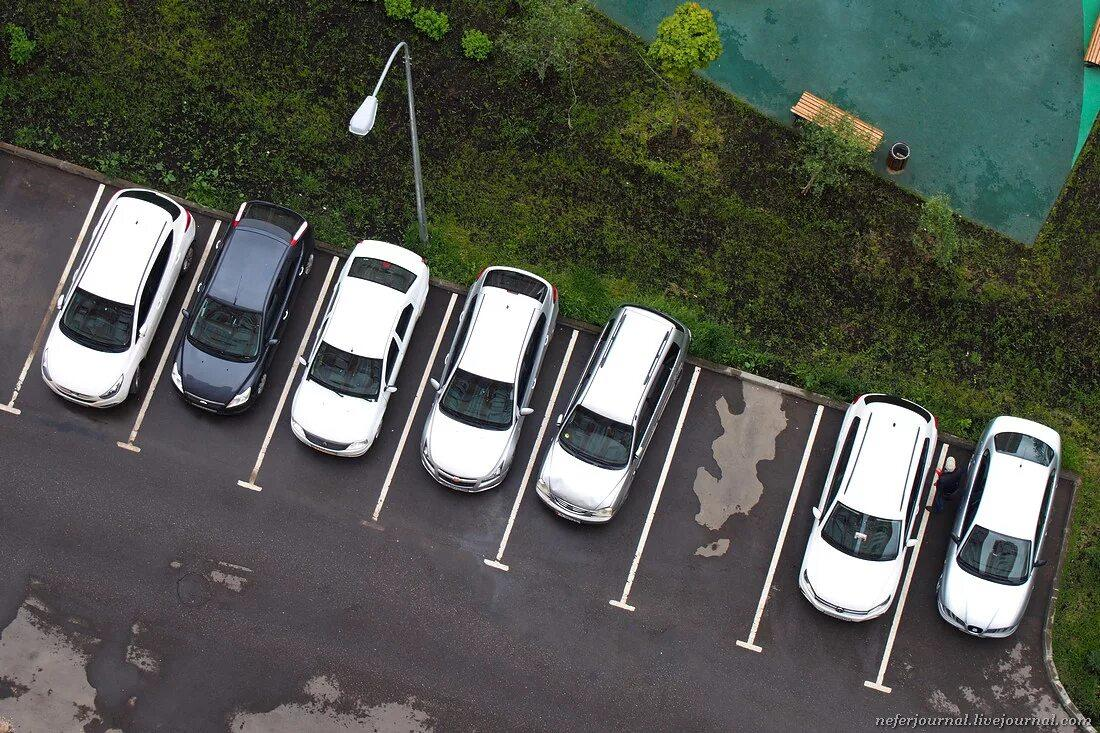occupied: (367, 286, 581, 569), (8, 178, 227, 452), (494, 323, 702, 608), (247, 251, 459, 529), (128, 216, 341, 489), (749, 409, 946, 686)
vacant: (622, 363, 829, 650)
